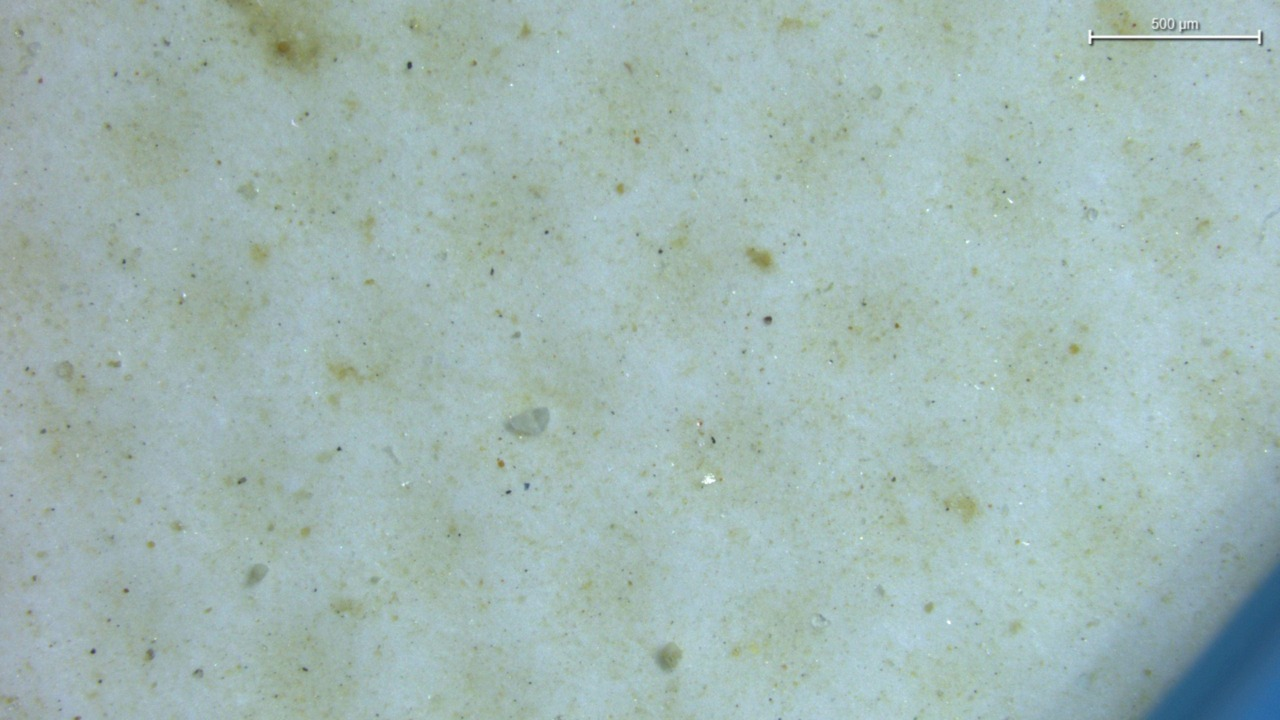microplastic_fragment: (504, 407, 550, 436)
